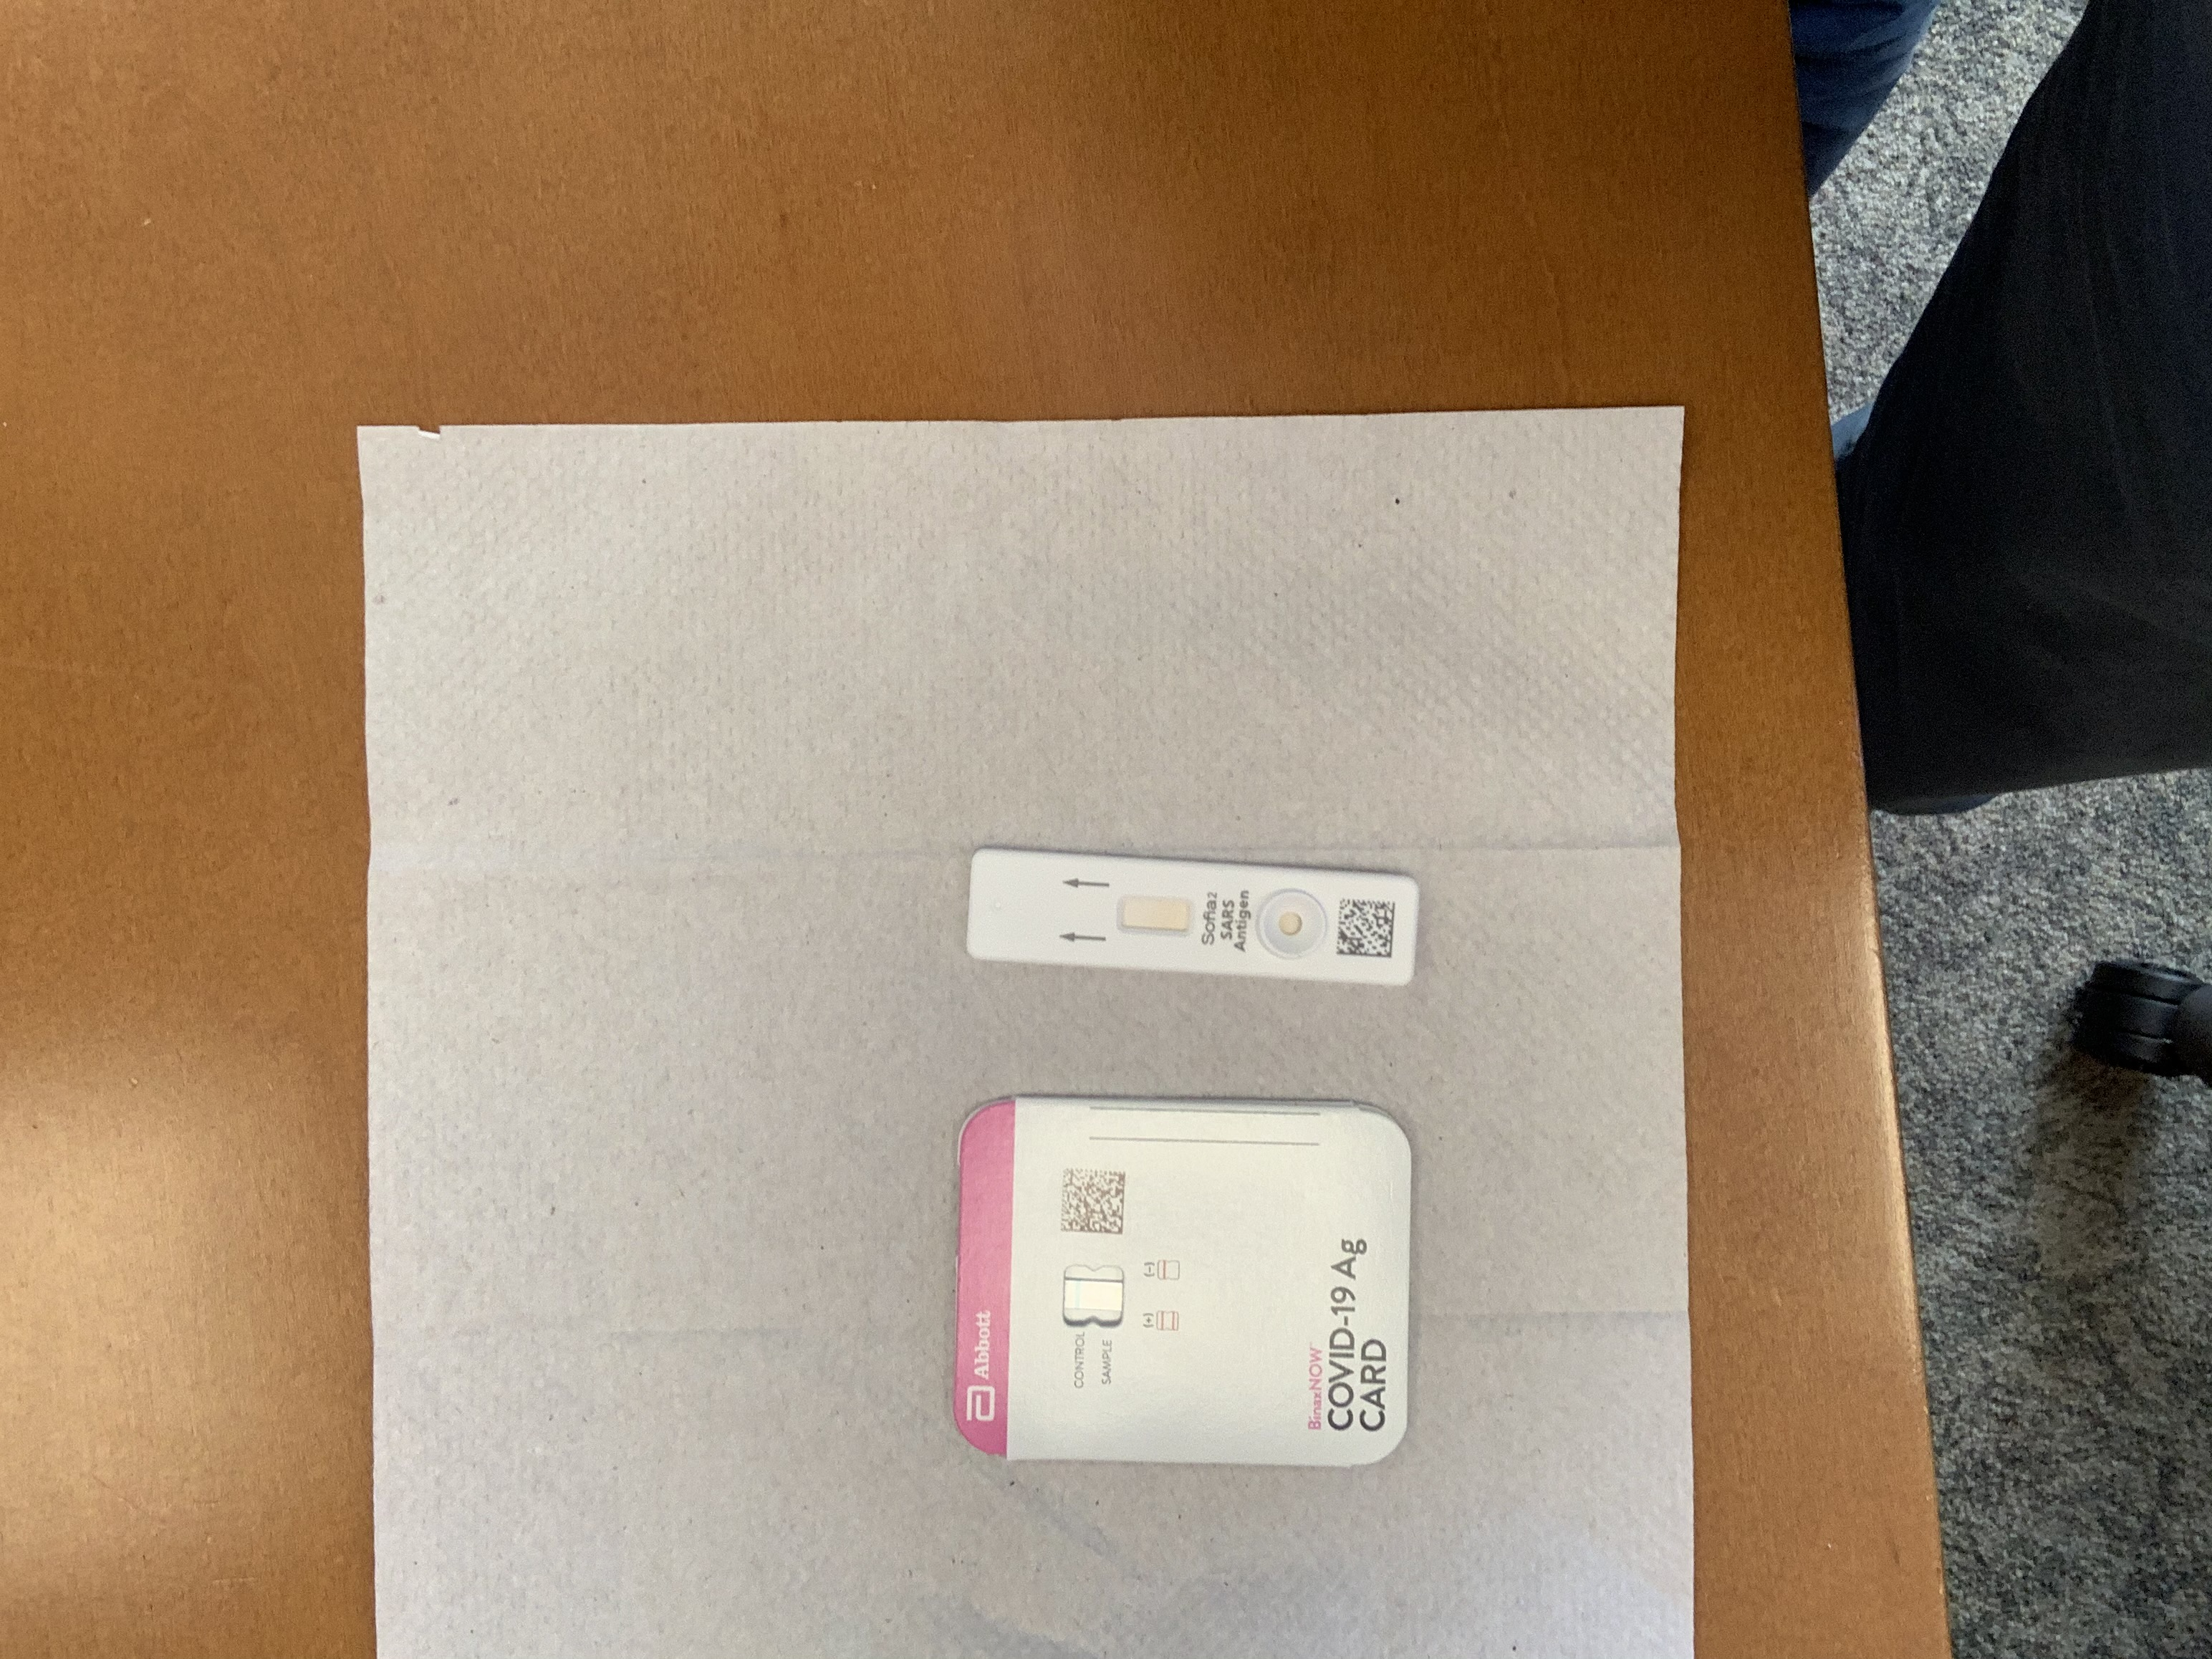binax: (953, 1086, 1418, 1471)
quidel: (965, 840, 1421, 990)
